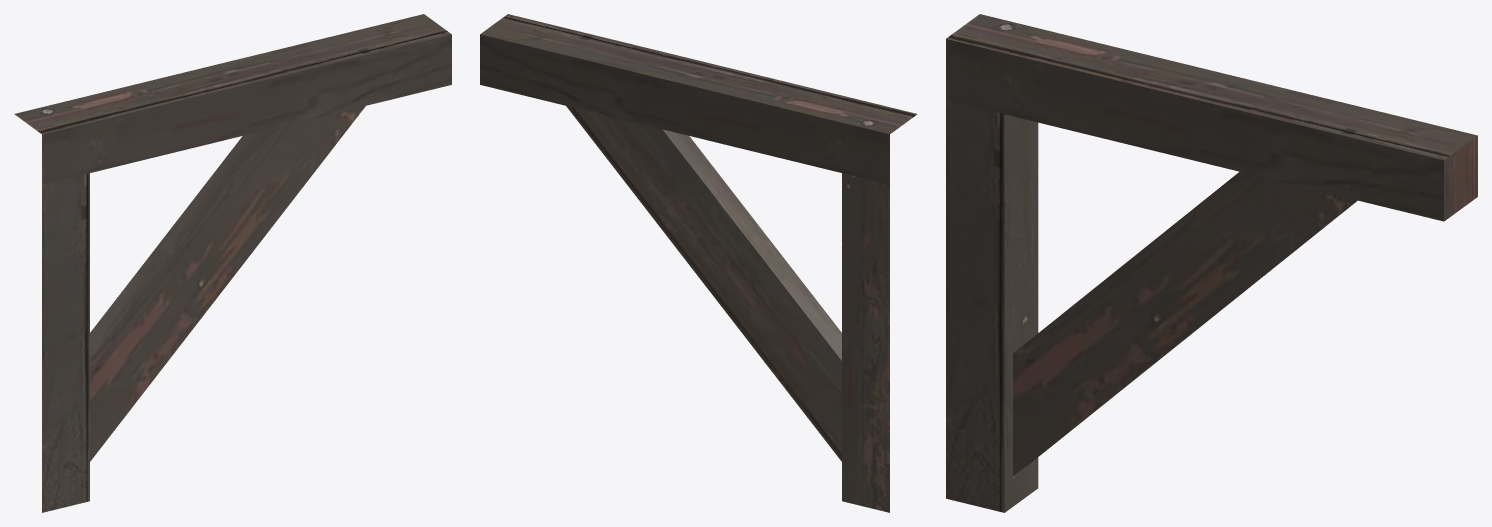
3 renders of one model, left to right at view 1: azimuth 30°, elevation 25°; view 2: azimuth 150°, elevation 25°; view 3: azimuth 330°, elevation 25°, orthographic. The views are drawn at different scales.
Visible parts, largest first — view 1: body0_model0_lod0_mesh0; view 2: body0_model0_lod0_mesh0; view 3: body0_model0_lod0_mesh0.
Part boxes in pixels (x1,y1,x2,y2): body0_model0_lod0_mesh0: (14,14,451,512); body0_model0_lod0_mesh0: (480,14,917,512); body0_model0_lod0_mesh0: (946,14,1477,512).
Size of the model in its own units: 68 by 60 by 8.
1 material, 1 textured.
